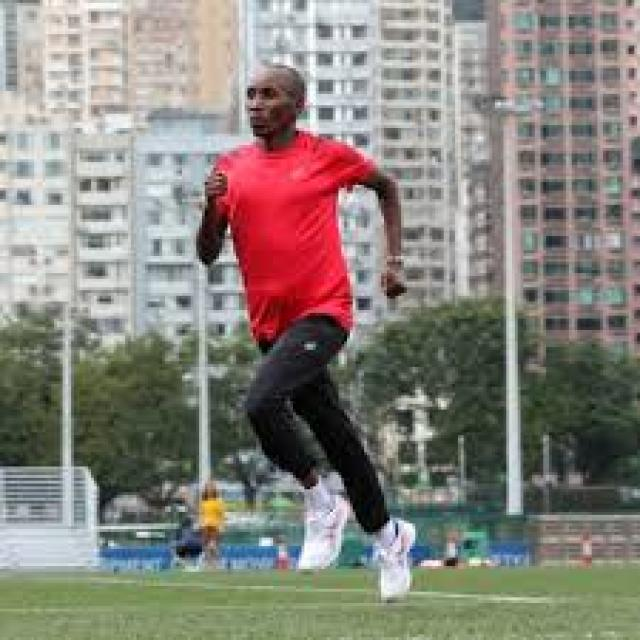running: (193, 63, 421, 605)
